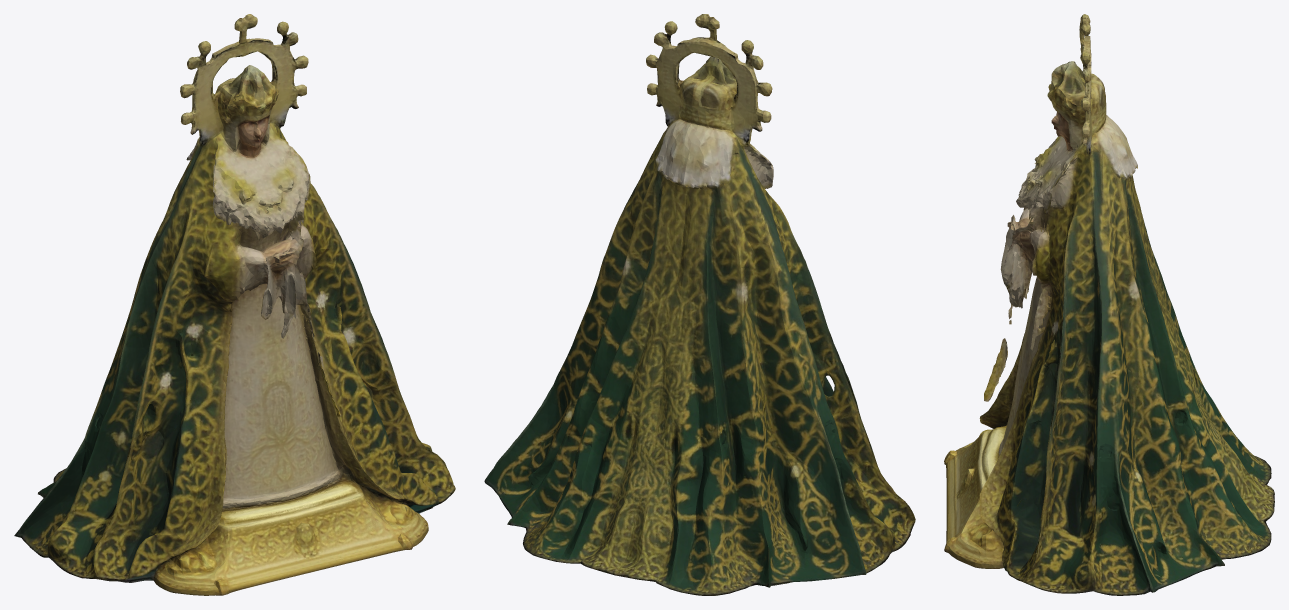
Rendered from virgen.glb.
The picture shows the model from 3 angles, left to right: view 1: azimuth 30°, elevation 25°; view 2: azimuth 150°, elevation 25°; view 3: azimuth 270°, elevation 25°; orthographic projection. The views are drawn at different scales.
Parts seen in each view (by area): view 1: world; view 2: world; view 3: world.
Part boxes in pixels (x1=…): world: x1=14, y1=14, x2=455, y2=595; world: x1=484, y1=14, x2=915, y2=595; world: x1=944, y1=14, x2=1274, y2=595.
Bounding box in the file's own units: 0.8072 × 0.9995 × 0.6122.
Materials: 1 (1 with a texture image).
